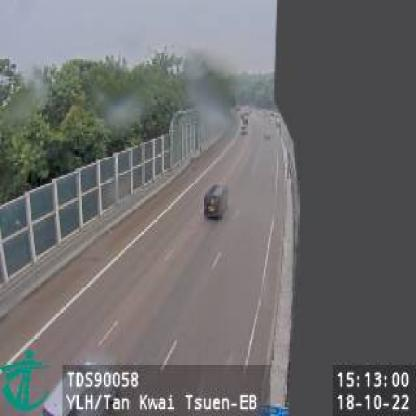Car: (202, 181, 228, 220)
